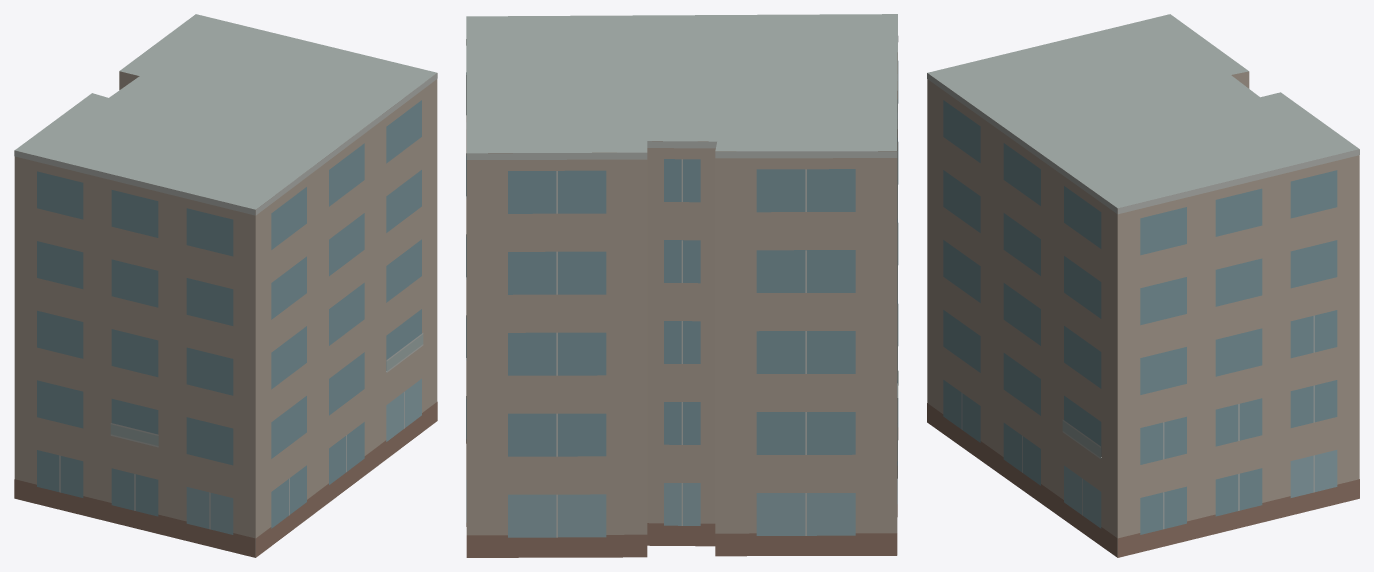
Rendered from survey-upis-33007076.glb.
The picture shows the model from 3 angles, left to right: view 1: azimuth 30°, elevation 25°; view 2: azimuth 150°, elevation 25°; view 3: azimuth 270°, elevation 25°; orthographic projection. The views are drawn at different scales.
Parts seen in each view (by area): view 1: survey-upis-33007076.tmp; view 2: survey-upis-33007076.tmp; view 3: survey-upis-33007076.tmp.
Part boxes in pixels (x1,y1,x2,y2): survey-upis-33007076.tmp: [14, 14, 437, 557]; survey-upis-33007076.tmp: [466, 14, 898, 557]; survey-upis-33007076.tmp: [927, 14, 1359, 557].
Size of the model in its own units: 16.94 by 14.2 by 15.94.
